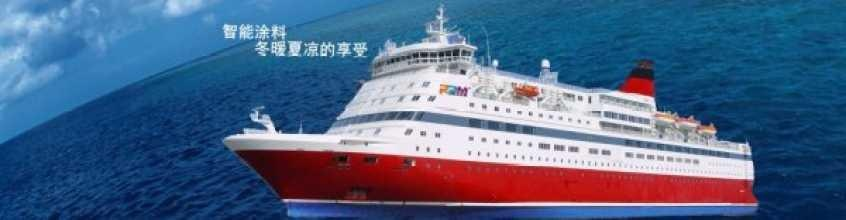youlun: (212, 43, 757, 216)
